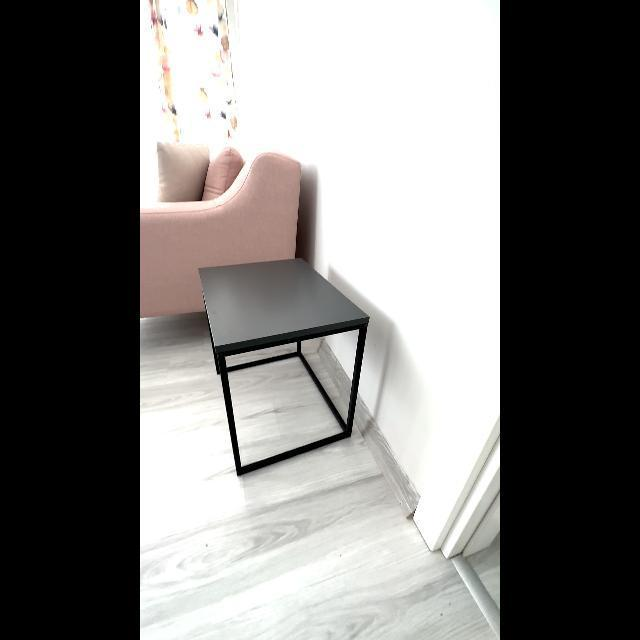coffee table: (194, 260, 370, 476)
